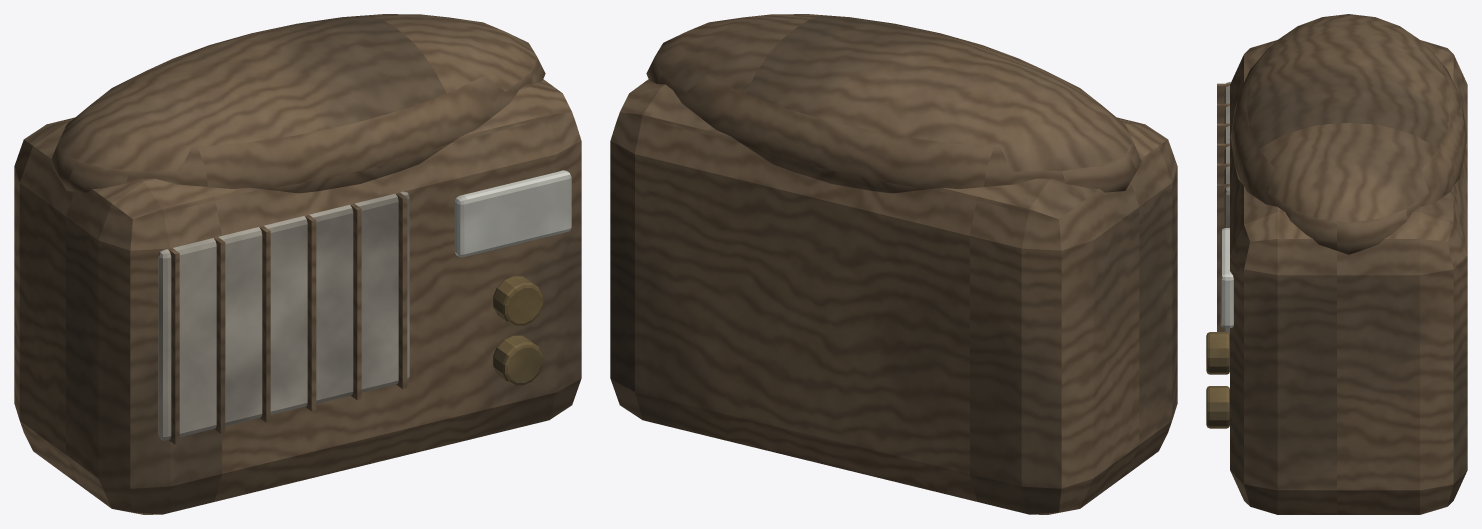
Rendered from L05_valve_radio.glb.
3 renders of one model, left to right at view 1: azimuth 30°, elevation 25°; view 2: azimuth 150°, elevation 25°; view 3: azimuth 270°, elevation 25°, orthographic. The views are drawn at different scales.
Visible parts, largest first — view 1: L05_valve_radio; view 2: L05_valve_radio; view 3: L05_valve_radio.
Part boxes in pixels (left/top/right/bottom): L05_valve_radio: left=14, top=14, right=581, bottom=514; L05_valve_radio: left=610, top=14, right=1177, bottom=514; L05_valve_radio: left=1206, top=14, right=1467, bottom=514.
Bounding box in the file's own units: 0.4 × 0.3143 × 0.2095.
Materials: 4 (4 with a texture image).
